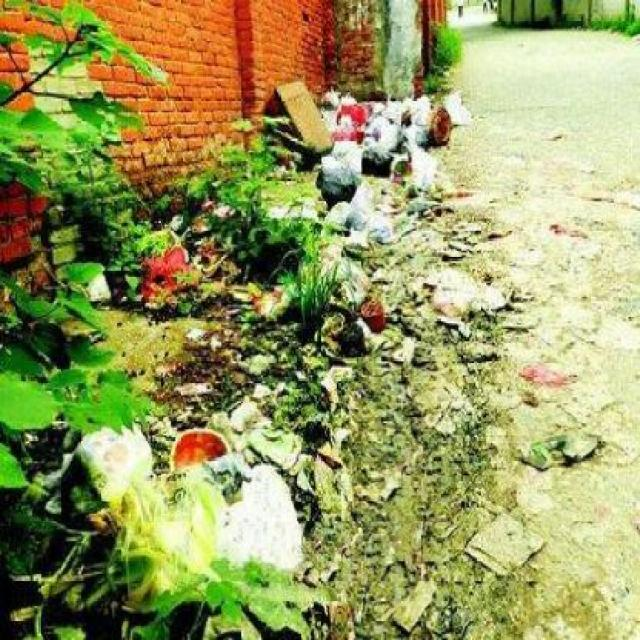garbage: (240, 343, 440, 486), (146, 242, 230, 456), (317, 169, 466, 274), (317, 85, 462, 154), (266, 83, 324, 142), (340, 288, 396, 338)
